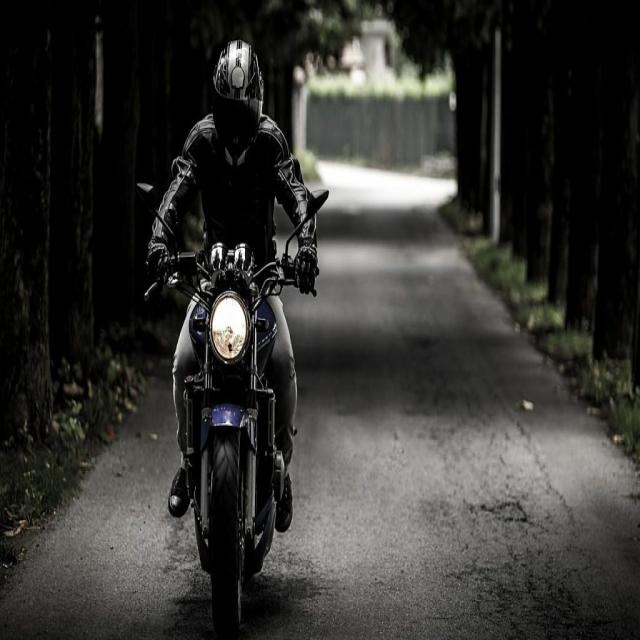MOTORCYCLE: (159, 246, 294, 621)
